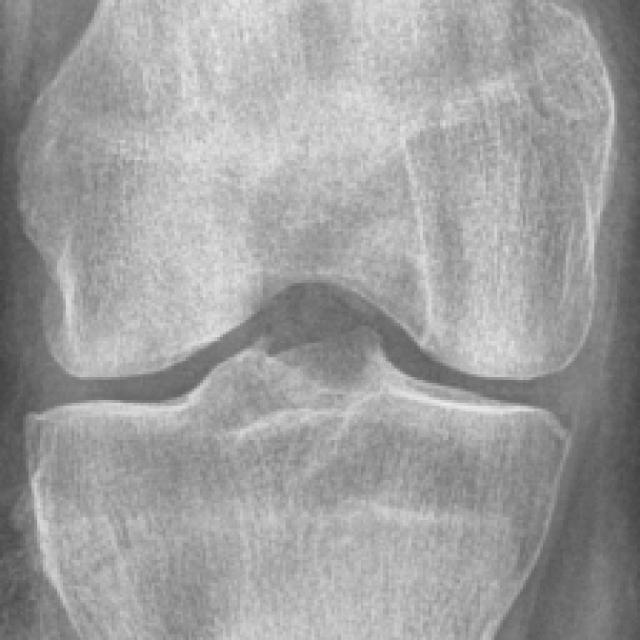femur: (26, 1, 609, 380)
tibia: (34, 331, 560, 637)
